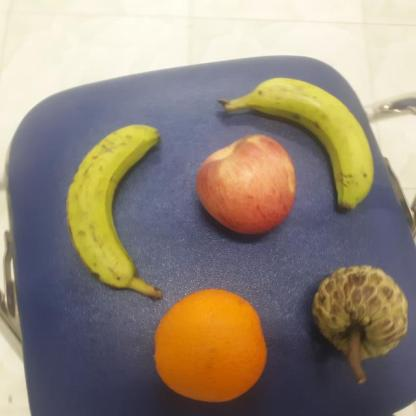annona: (309, 263, 409, 360)
apple: (191, 130, 297, 238)
banana: (59, 119, 170, 286), (256, 72, 377, 208)
orange: (153, 289, 268, 403)
